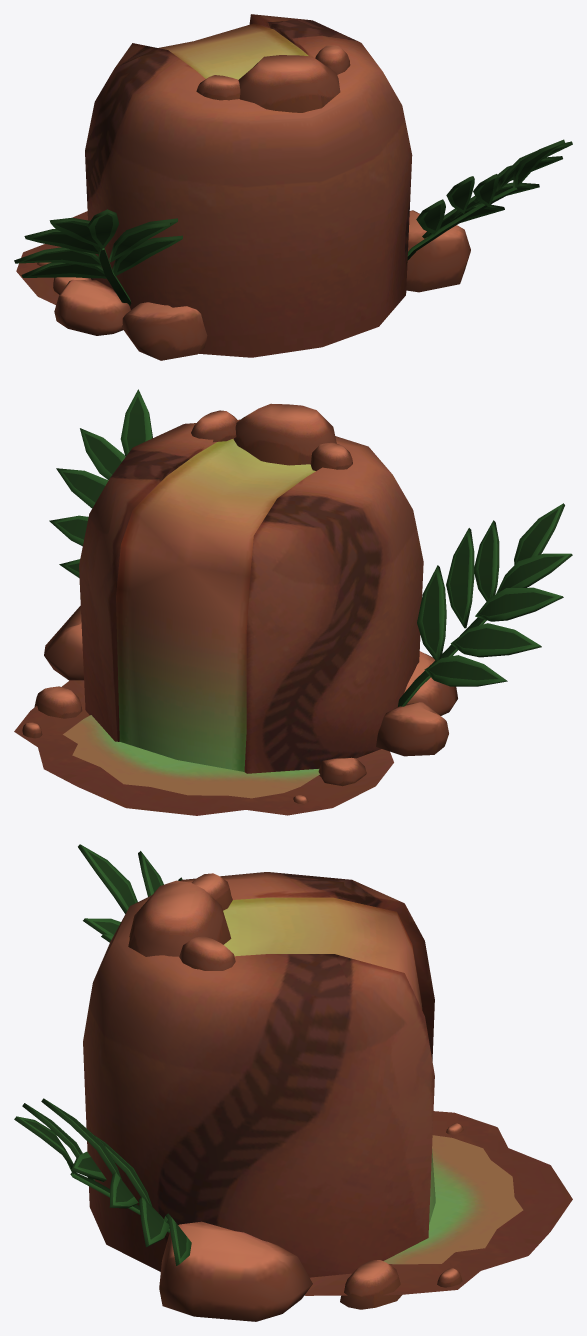
The model's file is MuddyPuddlesOdysseyStatue.fbx.
3 renders of one model, top to bottom at view 1: azimuth 30°, elevation 25°; view 2: azimuth 150°, elevation 25°; view 3: azimuth 270°, elevation 25°, orthographic. The views are drawn at different scales.
Visible parts, largest first — view 1: MuddyPuddlesOdysseyStatue; view 2: MuddyPuddlesOdysseyStatue; view 3: MuddyPuddlesOdysseyStatue.
Boxes of the visible parts, box(x1,y1,x2,y2) form: MuddyPuddlesOdysseyStatue: box(14, 14, 572, 360); MuddyPuddlesOdysseyStatue: box(14, 389, 572, 815); MuddyPuddlesOdysseyStatue: box(14, 844, 572, 1321).
Bounding box in the file's own units: 28.94 × 14.37 × 22.8.
Materials: 1 (1 with a texture image).
